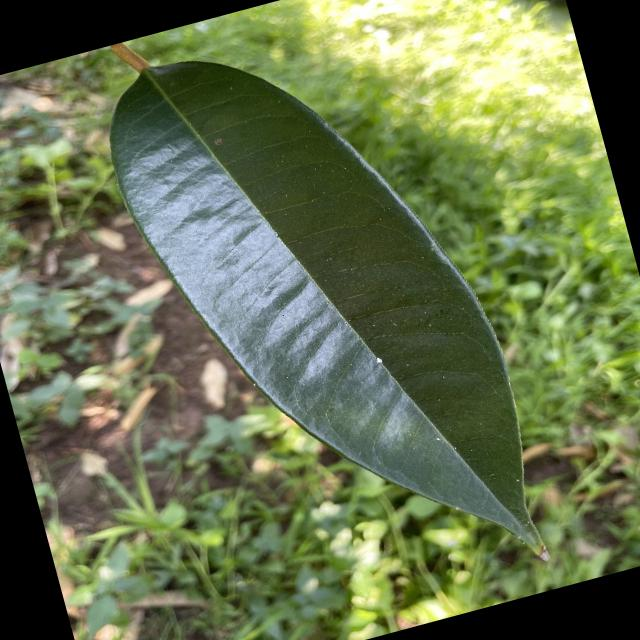No Disease: (78, 0, 570, 639)
